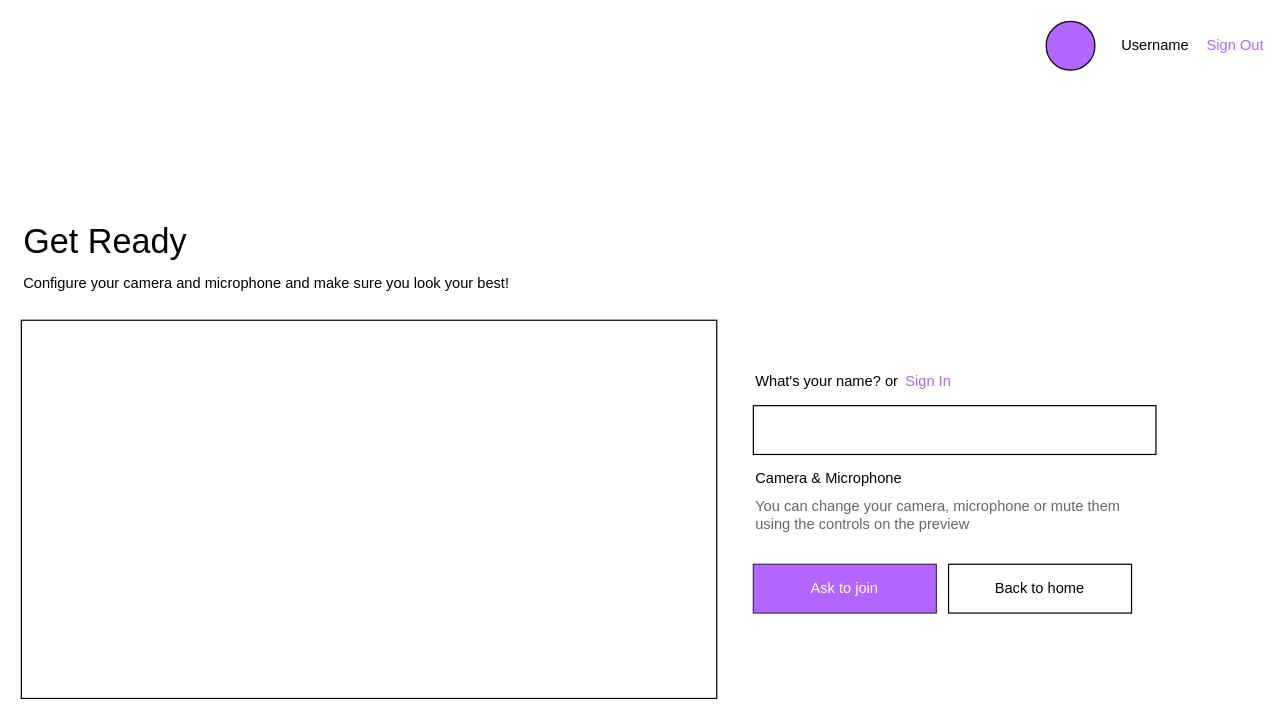
Image size: 1287x720. Some labels were removed from this diagram. Here are the shapes that lost their labels. From the top down, the box of each, then its label:
(752, 404, 1156, 454): Your name
(20, 319, 717, 698): Camera is off
